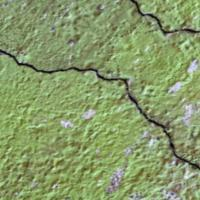crack: (0, 0, 199, 174)
